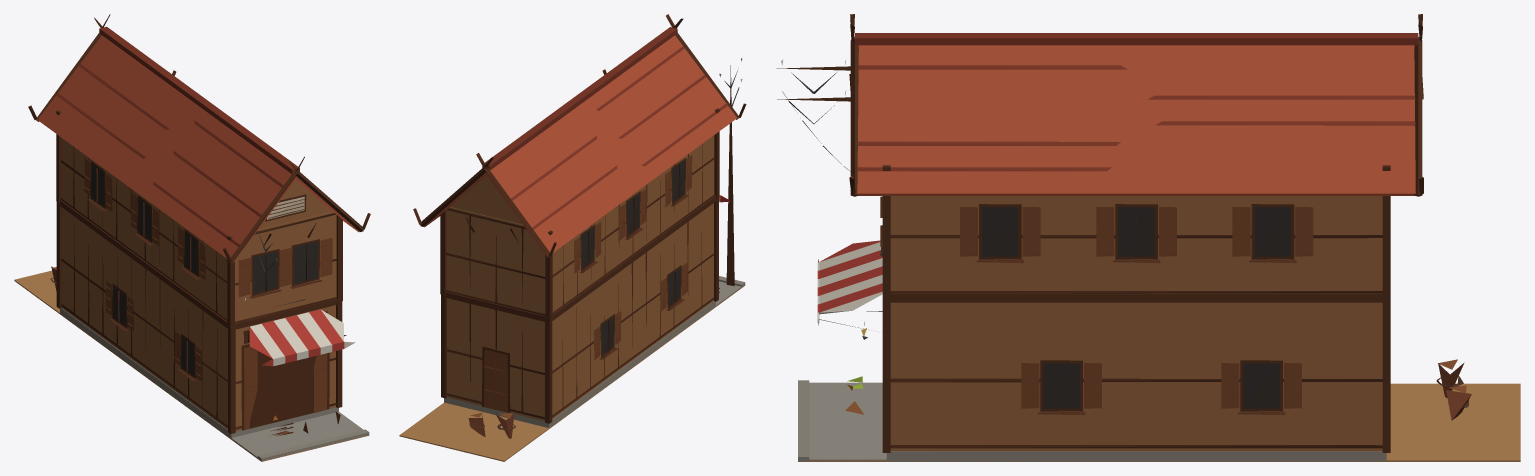
Rendered from bay1_one.glb.
3 renders of one model, left to right at view 1: azimuth 30°, elevation 25°; view 2: azimuth 150°, elevation 25°; view 3: azimuth 270°, elevation 25°, orthographic. The views are drawn at different scales.
Parts seen in each view (by area): view 1: body, windows; view 2: body, windows; view 3: body, windows.
Boxes of the visible parts, x1,y1,x2,y2 form: body: (14, 14, 370, 461); windows: (91, 164, 318, 375); body: (399, 14, 746, 461); windows: (581, 160, 685, 354); body: (776, 14, 1520, 461); windows: (861, 207, 1290, 408).
Size of the model in its own units: 5.46 by 9.95 by 16.4.
